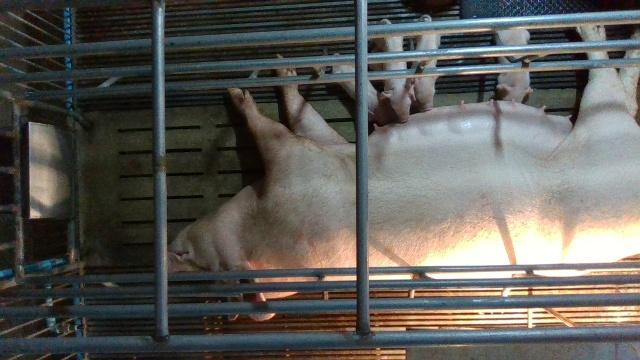piglet: (334, 52, 395, 123), (374, 18, 413, 123), (492, 29, 532, 102), (413, 15, 442, 110)
sow-sleep-lactate: (172, 27, 640, 322)
